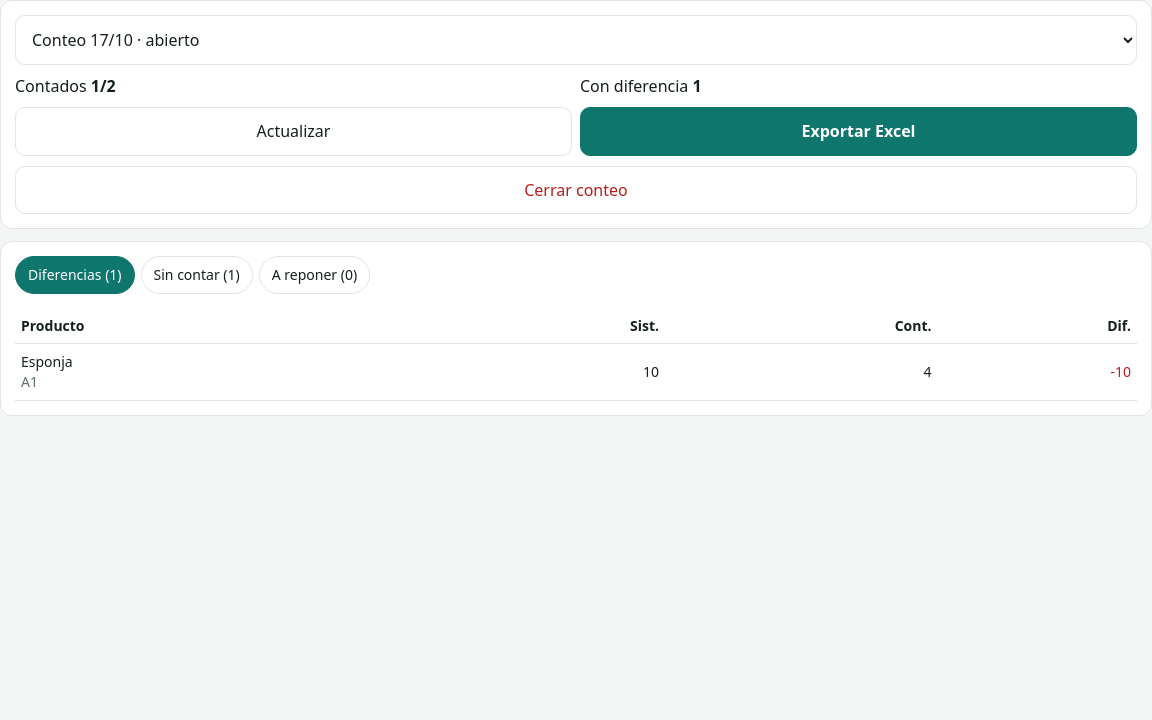
Scenario: Reportes · botón Exportar Excel › cerrar un conteo con productos contados: informa cuántos y permite exportar
Click the button "Cerrar conteo" at (576, 190), box [15,166,1137,214]
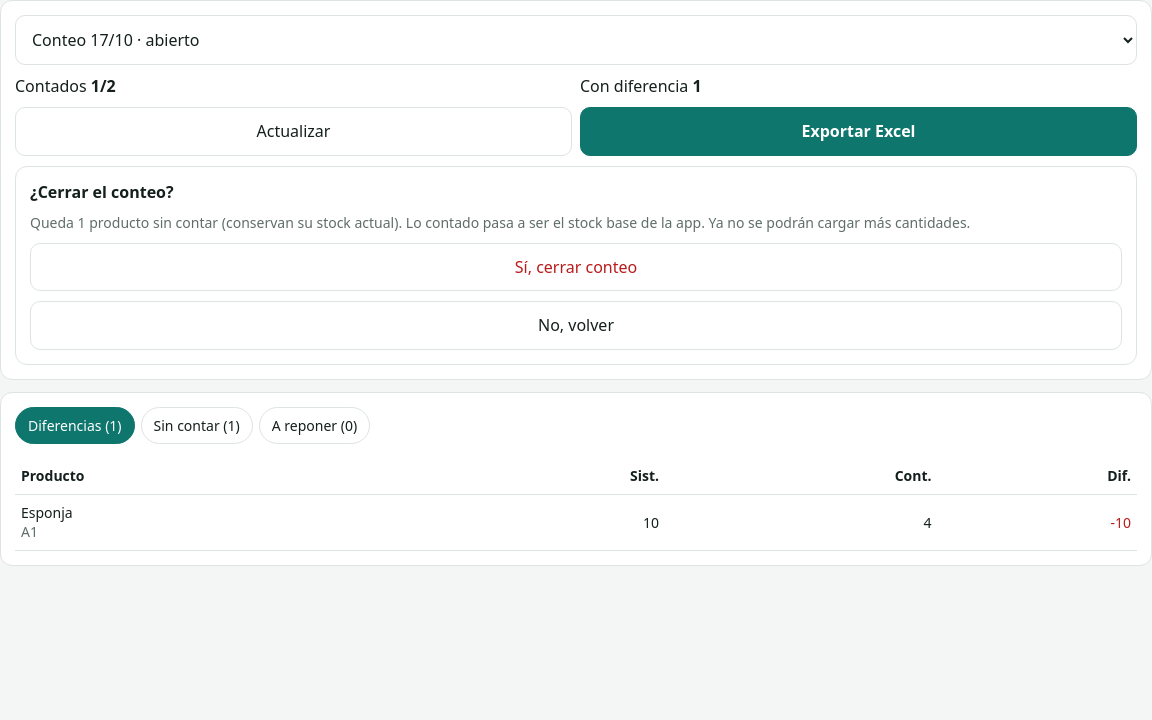
Expected: the text "Queda 1 producto sin contar" is shown, [30,213,970,232]
Click the button "Sí, cerrar conteo" at (576, 267), box [30,243,1122,291]
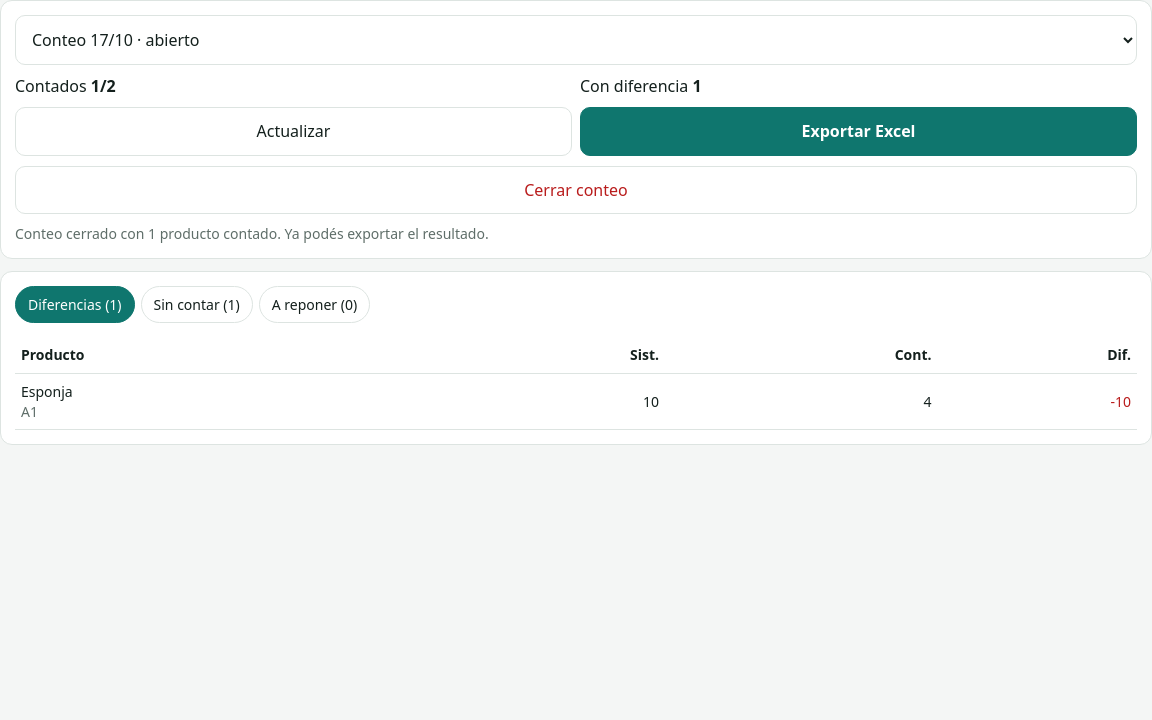
Expected: the text "Conteo cerrado con 1 producto contado. Ya podés exportar" is shown, [15,224,489,243]
